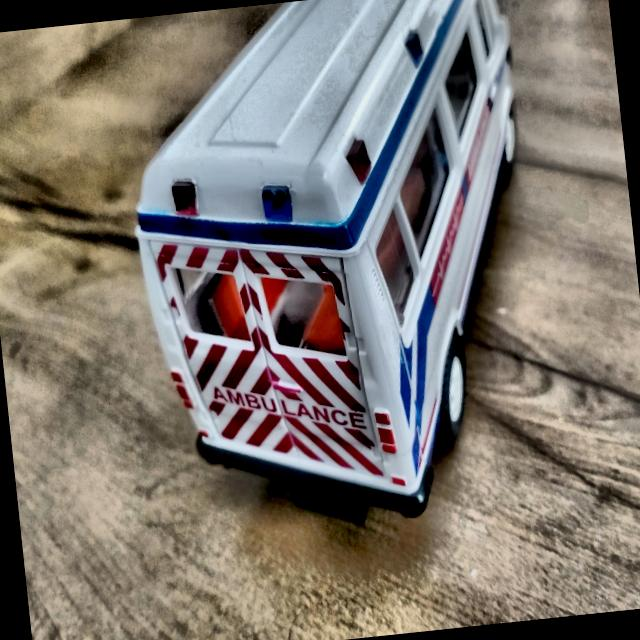Ambulance: (110, 0, 567, 548)
